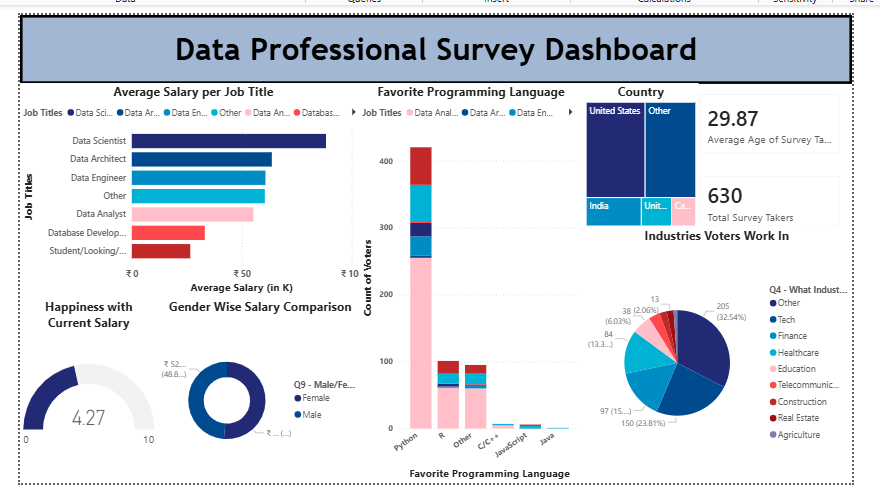

The page's visual inventory and layout, read from the dashboard file:
{"tool":"powerbi","page":{"name":"Page 1","canvas":[1280,720],"ordinal":0},"visuals":[{"type":"cardVisual","fields":{"Data":["Count(Data Professional Survey.Unique ID)"]},"box":[1028.3,230,251.7,111.7],"z":0},{"type":"cardVisual","fields":{"Data":["Avg(Data Professional Survey.Q10 - Current Age)"]},"box":[1028.3,105,251.7,125],"z":1000},{"type":"textbox","box":[0,0,1280,105.8],"z":2000},{"type":"barChart","title":"Average Salary per Job Title","fields":{"Category":["Data Professional Survey.Q1 - Which Title Best Fits your Current Role?.1"],"Y":["Avg(Data Professional Survey.Average Salary)"],"Series":["Data Professional Survey.Q1 - Which Title Best Fits your Current Role?.1"]},"box":[0,105,533.3,330],"z":3000},{"type":"columnChart","title":"Favorite Programming Language","fields":{"Category":["Data Professional Survey.Q5 - Favorite Programming Language.1"],"Y":["CountNonNull(Data Professional Survey.Unique ID)"],"Series":["Data Professional Survey.Q1 - Which Title Best Fits your Current Role?.1"]},"box":[521.7,105,345,615],"z":4000},{"type":"treemap","title":"Country","fields":{"Group":["Data Professional Survey.Q11 - Which Country do you live in?.1"],"Values":["CountNonNull(Data Professional Survey.Q11 - Which Country do you live in?.1)"]},"box":[866.7,105,178.3,225],"z":5000},{"type":"gauge","title":"Happiness with Current Salary","fields":{"Y":["Avg(Data Professional Survey.Q6 - How Happy are you in your Current Position with the following? (Salary))"],"MinValue":["Min(Data Professional Survey.Q6 - How Happy are you in your Current Position with the following? (Salary))"],"MaxValue":["Max(Data Professional Survey.Q6 - How Happy are you in your Current Position with the following? (Salary))"]},"box":[0,435,211.7,285],"z":6000},{"type":"donutChart","title":"Gender Wise Salary Comparison","fields":{"Y":["Avg(Data Professional Survey.Average Salary)"],"Category":["Data Professional Survey.Q9 - Male/Female?"]},"box":[211.7,435,315,285],"z":7000},{"type":"pieChart","title":"Industries Voters Work In","fields":{"Category":["Data Professional Survey.Q4 - What Industry do you work in?.1"],"Y":["CountNonNull(Data Professional Survey.Q4 - What Industry do you work in?.1)"]},"box":[865,326.7,415,393.3],"z":8000}]}

Visuals, with their boxes in screenshot pixels (x1, y1, x2, y2):
cardVisual - Count(Data Professional Survey.Unique ID): 689,162,853,235
cardVisual - Avg(Data Professional Survey.Q10 - Current Age): 689,80,853,162
textbox: 16,11,853,81
"Average Salary per Job Title" barChart: 16,80,365,296
"Favorite Programming Language" columnChart: 357,80,583,482
"Country" treemap: 583,80,699,227
"Happiness with Current Salary" gauge: 16,296,154,482
"Gender Wise Salary Comparison" donutChart: 154,296,360,482
"Industries Voters Work In" pieChart: 582,225,853,482
